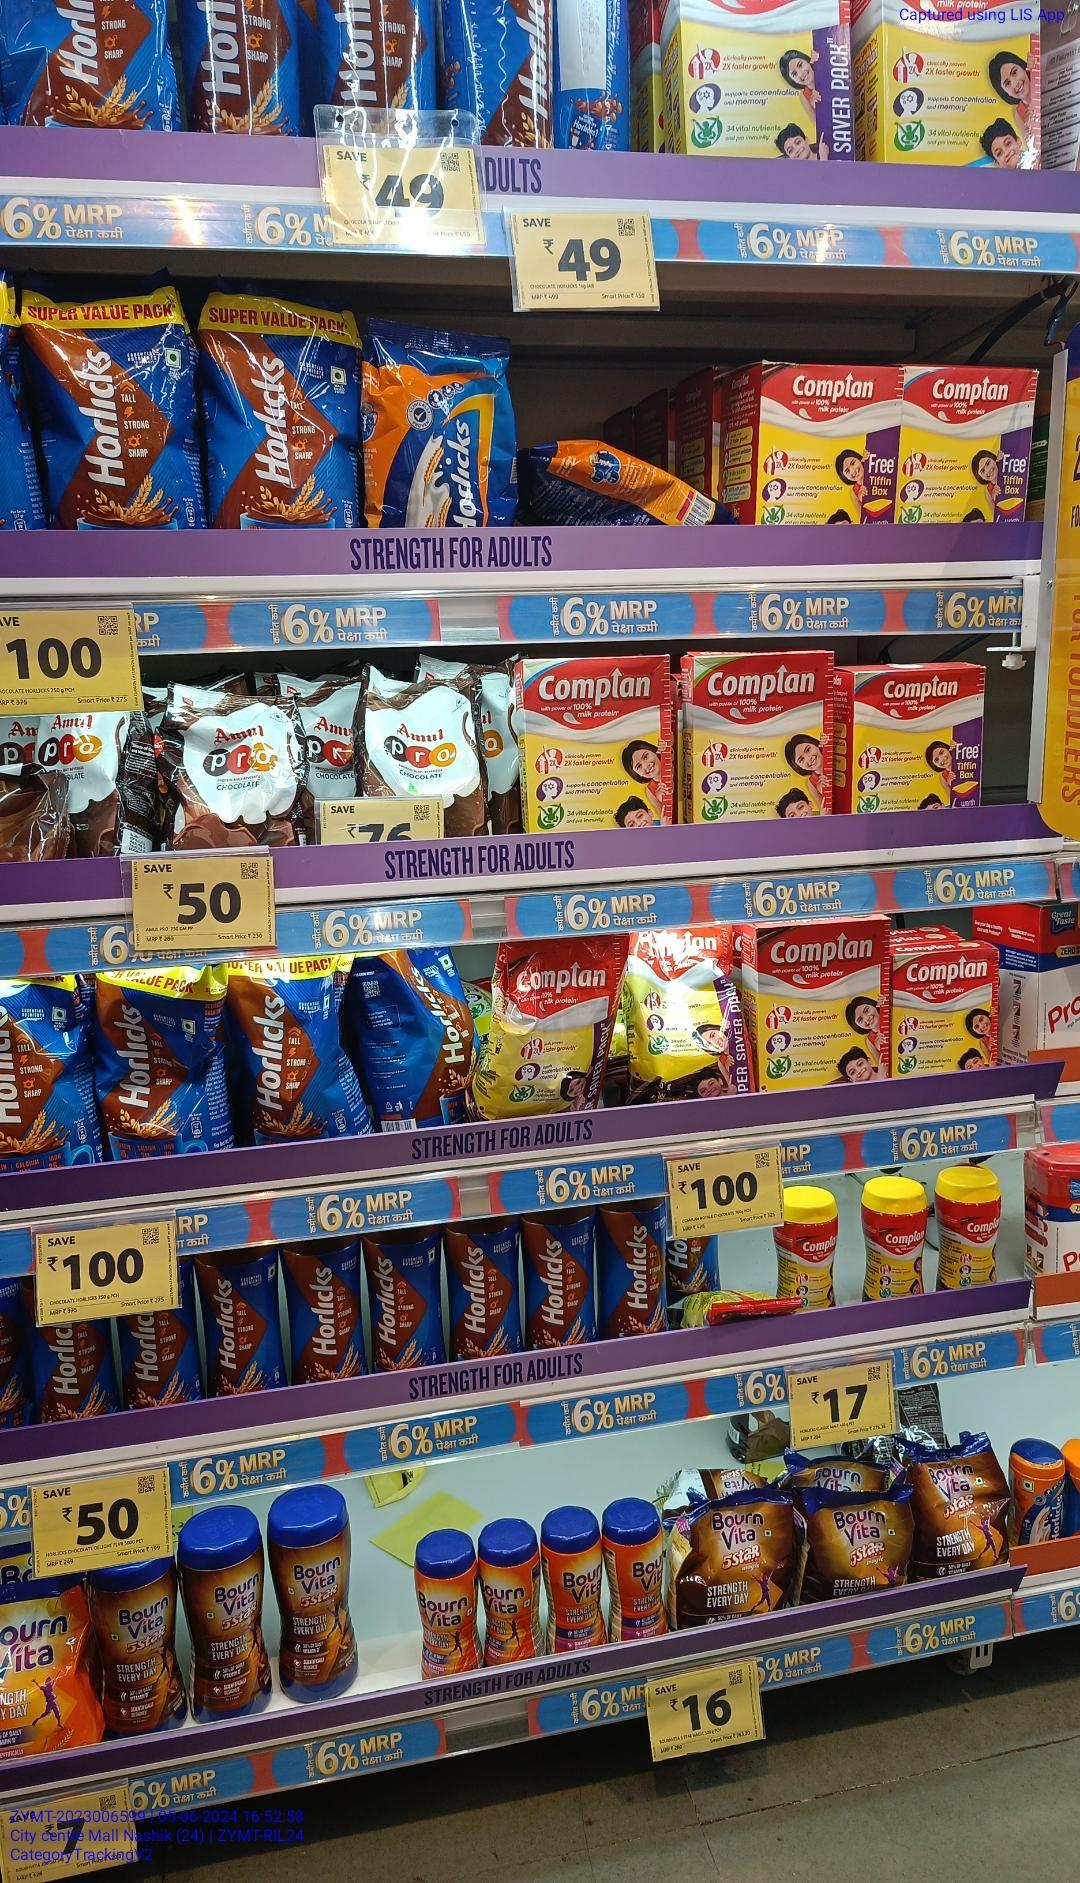BOURN_VITA_200_G_JAR: (418, 1542, 480, 1671), (546, 1523, 604, 1648), (482, 1542, 539, 1663), (610, 1516, 662, 1640)
BOURN_VITA_FIVE_STAR_MAGIC_500_G_JAR: (188, 1522, 270, 1724), (274, 1508, 356, 1698), (102, 1564, 178, 1741)
BOURN_VITA_FIVE_STAR_MAGIC_500_G_POUCH: (678, 1507, 797, 1624), (814, 1491, 912, 1591), (921, 1458, 1011, 1564)
COMPLAN_CHOCOLATE_200_GMS_JAR: (861, 1182, 927, 1295), (936, 1173, 1000, 1287), (785, 1204, 837, 1310)
COMPLAN_KESAR_BADAM_200_GMS_PACK: (894, 952, 1001, 1080)
COMPLAN_PISTA_BADAM_500_GMS_PACK: (693, 654, 834, 820)
HORLICK_CHOCOLATE_500_G_JAR: (199, 1256, 282, 1390), (524, 1207, 596, 1345), (365, 1229, 437, 1367), (445, 1226, 520, 1357), (287, 1240, 357, 1380), (600, 1204, 669, 1337)
HORLICK_CHOCOLATE_750_G_POUCH: (31, 283, 195, 530), (203, 287, 353, 537)
